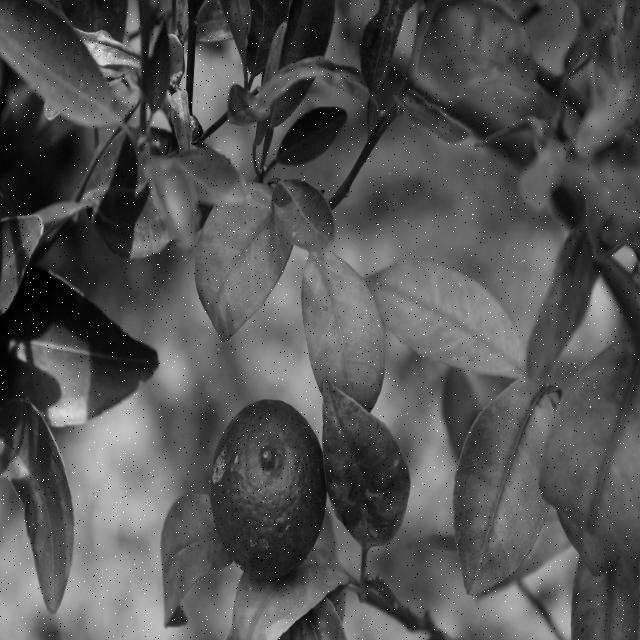blackspot: (202, 194, 281, 315), (306, 267, 384, 388)
